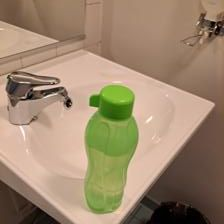bottle: (81, 84, 139, 214)
